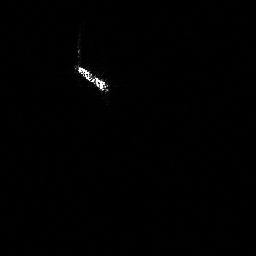ship: (72, 59, 114, 99)
